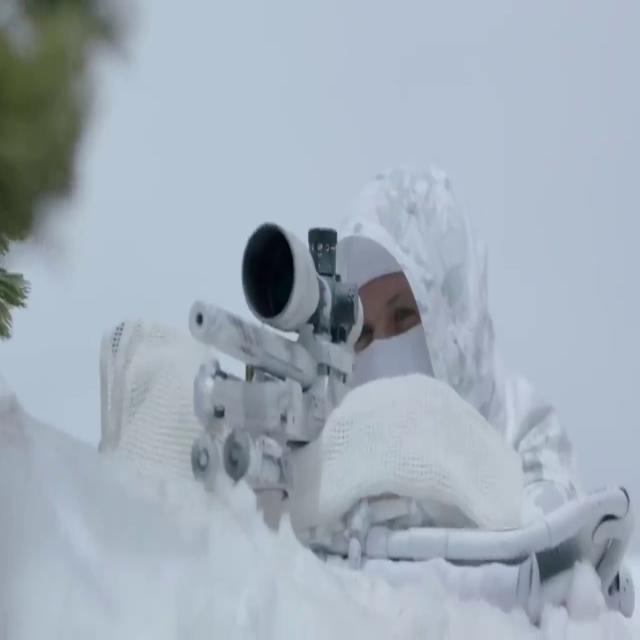Human: (186, 162, 636, 620)
